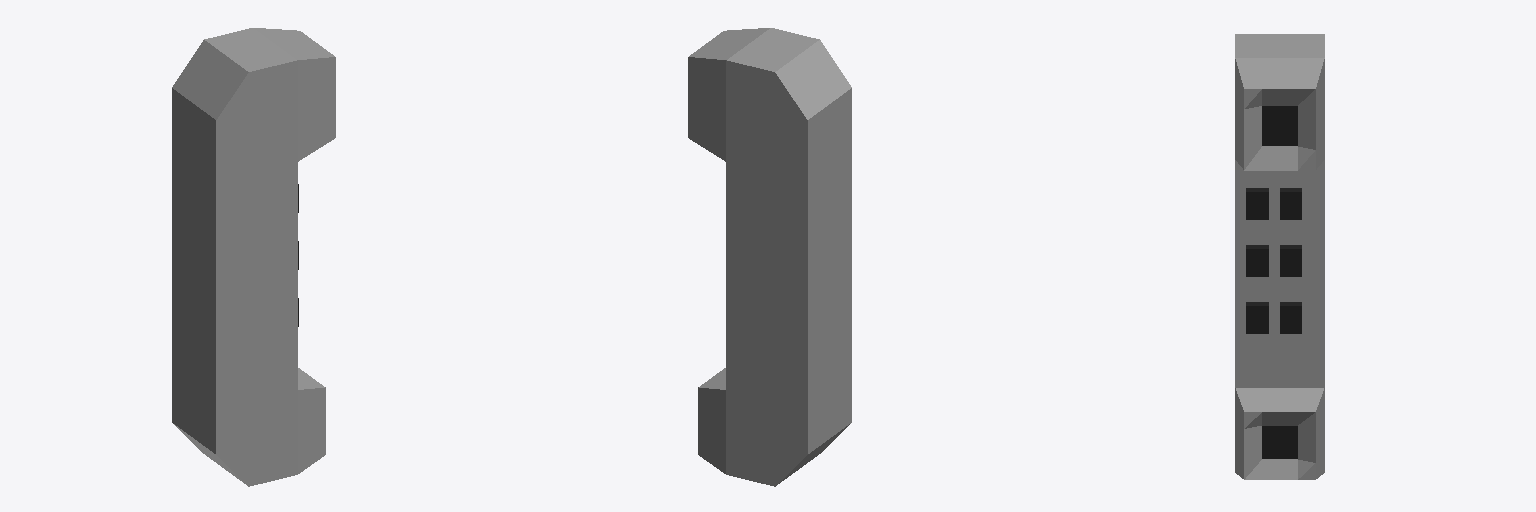
File: phone.obj
3 renders of one model, left to right at view 1: azimuth 30°, elevation 25°; view 2: azimuth 150°, elevation 25°; view 3: azimuth 270°, elevation 25°, orthographic.
Visible parts, largest first — view 1: Cube; view 2: Cube; view 3: Cube.
Part boxes in pixels (x1,y1,x2,y2): Cube: (172,28,335,486); Cube: (688,28,851,486); Cube: (1235,34,1324,479).
Bounding box in the file's own units: 0.7643 × 2.44 × 0.4777.